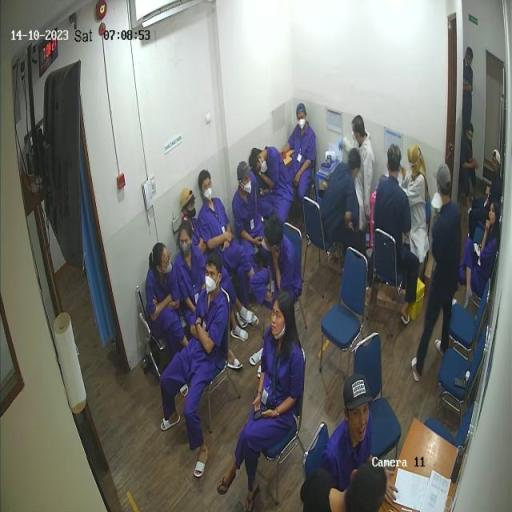person: (218, 292, 306, 512), (162, 253, 230, 478), (182, 189, 255, 342), (412, 164, 461, 383), (322, 374, 399, 512), (175, 222, 242, 368), (199, 171, 260, 328), (367, 146, 420, 324), (146, 244, 191, 399), (250, 216, 303, 309), (340, 115, 376, 245), (459, 199, 501, 310), (301, 462, 387, 512), (320, 150, 362, 250), (233, 162, 269, 274), (282, 104, 317, 218), (401, 146, 430, 274), (250, 148, 295, 227), (469, 150, 502, 241), (460, 124, 480, 216), (463, 47, 474, 142)
